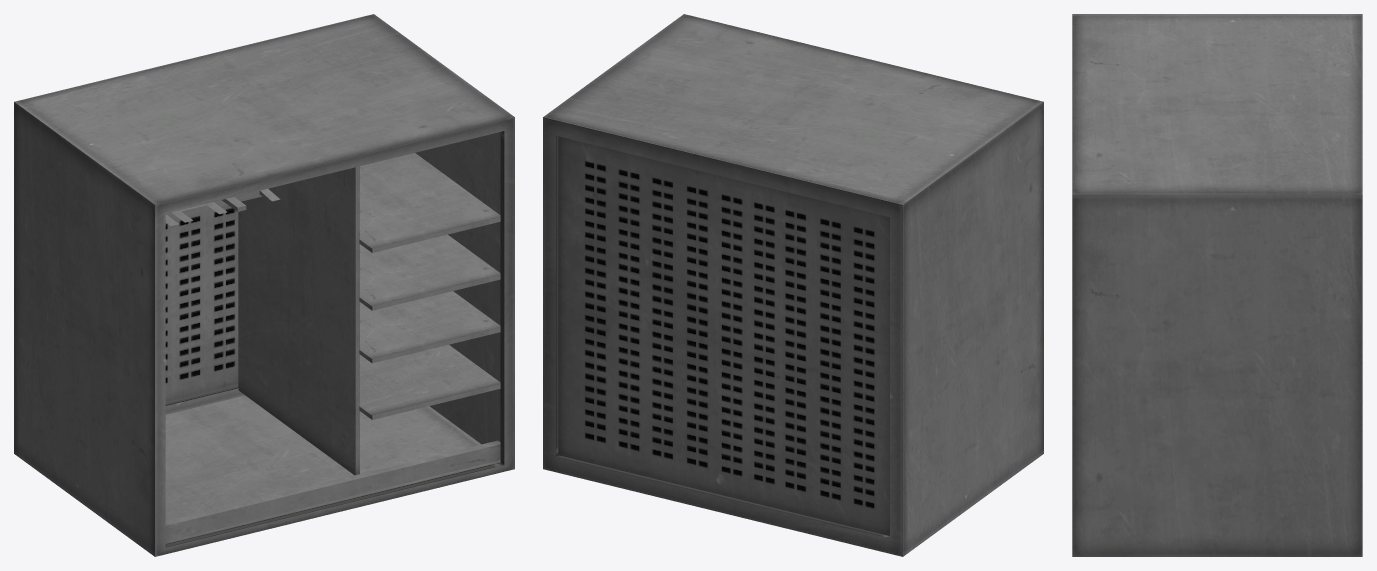
File: ctl_locker_military_lod2.glb
3 renders of one model, left to right at view 1: azimuth 30°, elevation 25°; view 2: azimuth 150°, elevation 25°; view 3: azimuth 270°, elevation 25°, orthographic. The views are drawn at different scales.
Parts seen in each view (by area): view 1: surf1, surf0; view 2: surf1, surf0; view 3: surf1.
Part boxes in pixels (<box>): surf1: <box>14,14,514,556</box>; surf0: <box>165,205,238,403</box>; surf1: <box>543,14,1043,556</box>; surf0: <box>558,136,889,535</box>; surf1: <box>1072,14,1362,556</box>.
Bounding box in the file's own units: 42 × 39.25 × 28.5.
